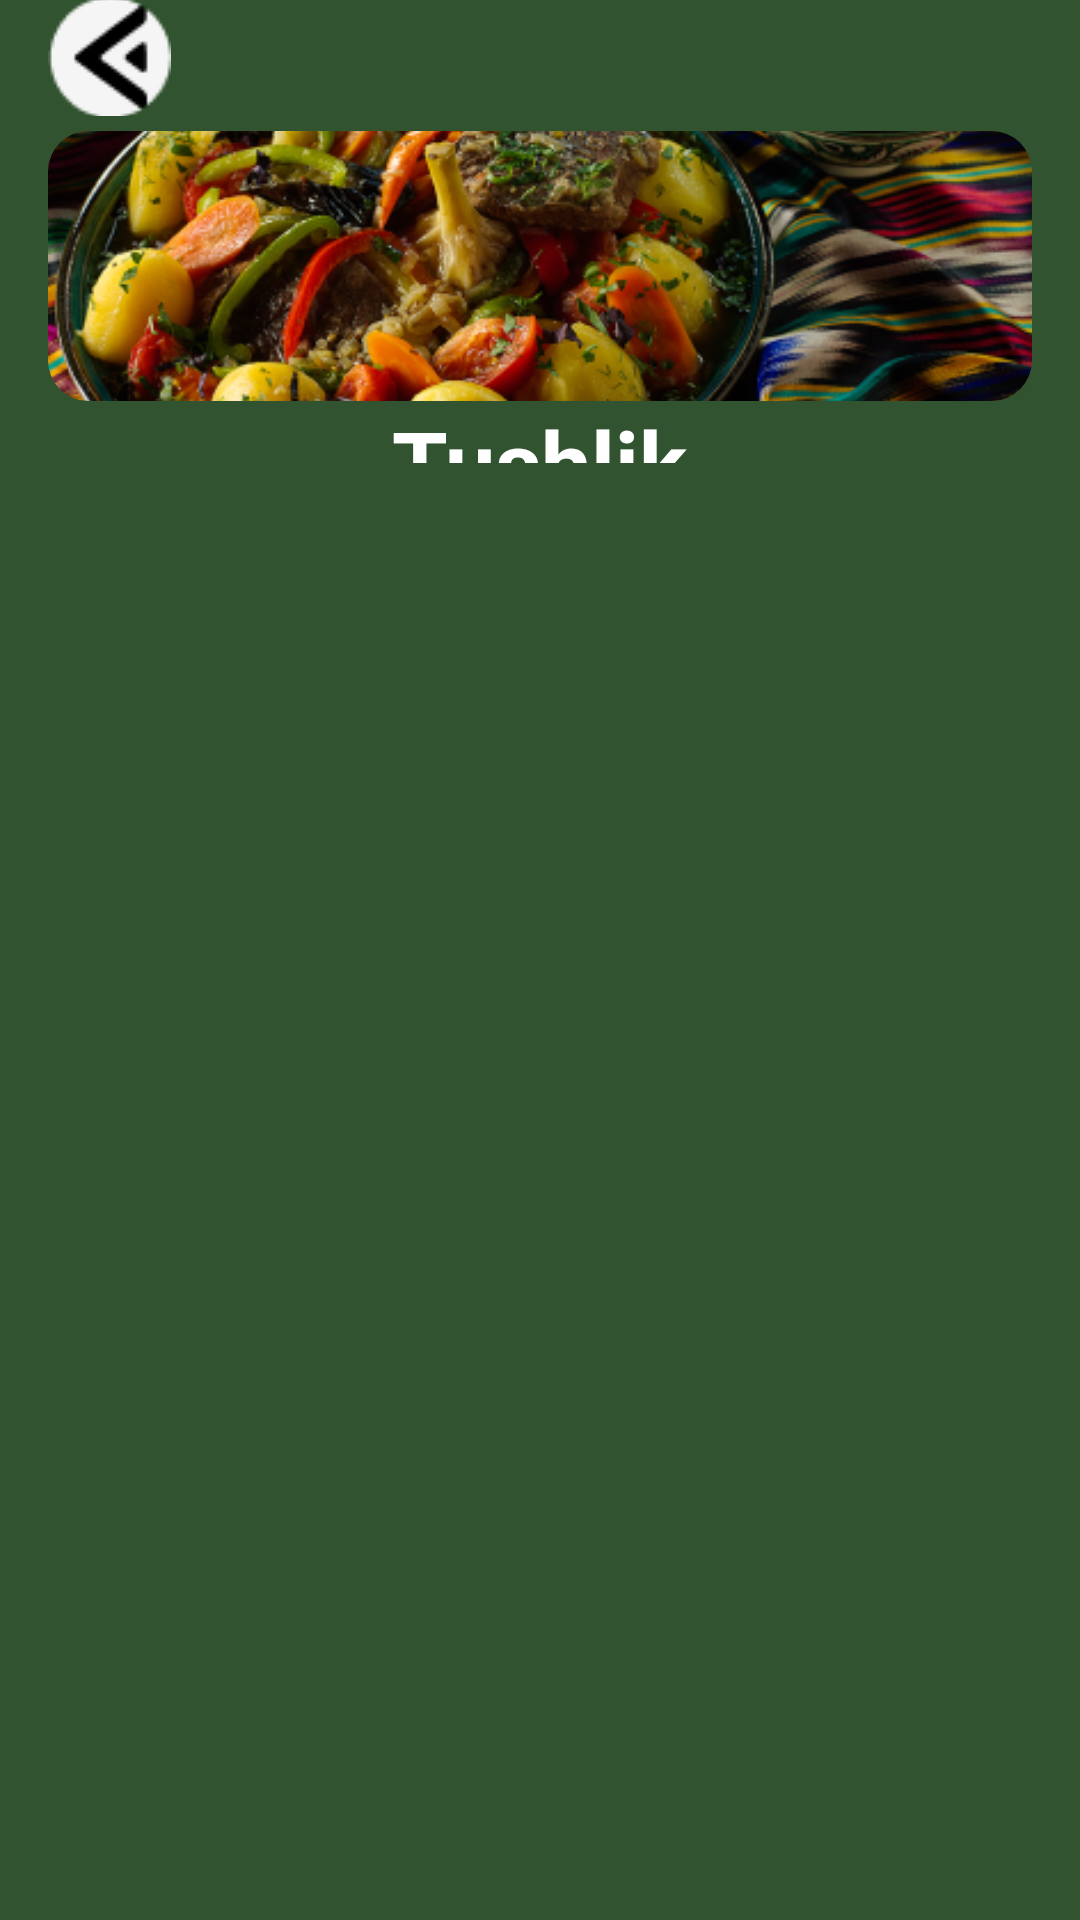

Icon click points for this 1080 x 1920 phone screenshot, format point (x, y):
back: point (109, 58)
